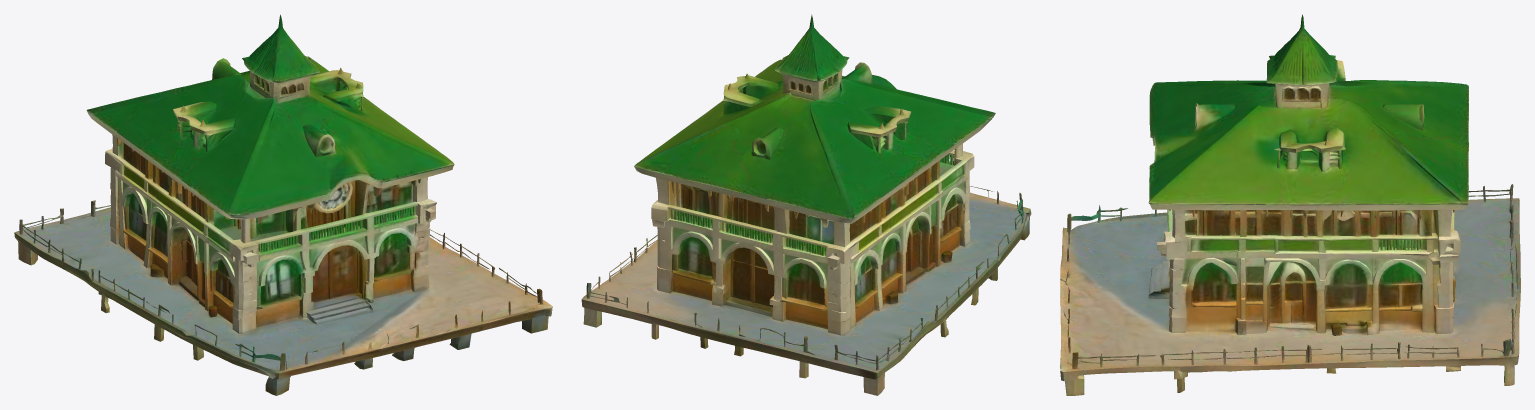
File: base_basic_pbr.glb
3 renders of one model, left to right at view 1: azimuth 30°, elevation 25°; view 2: azimuth 150°, elevation 25°; view 3: azimuth 270°, elevation 25°, orthographic. The views are drawn at different scales.
Visible parts, largest first — view 1: model; view 2: model; view 3: model.
Part boxes in pixels (x1,y1,x2,y2): model: (14, 14, 552, 395); model: (581, 14, 1031, 395); model: (1060, 14, 1520, 395).
Bounding box in the file's own units: 1.7 × 1.37 × 1.9.
Materials: 1 (1 with a texture image).
